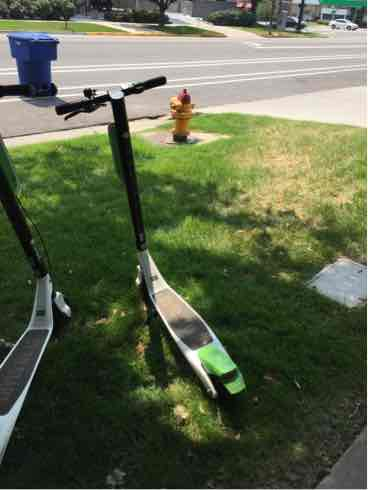scooter: (54, 60, 261, 425)
